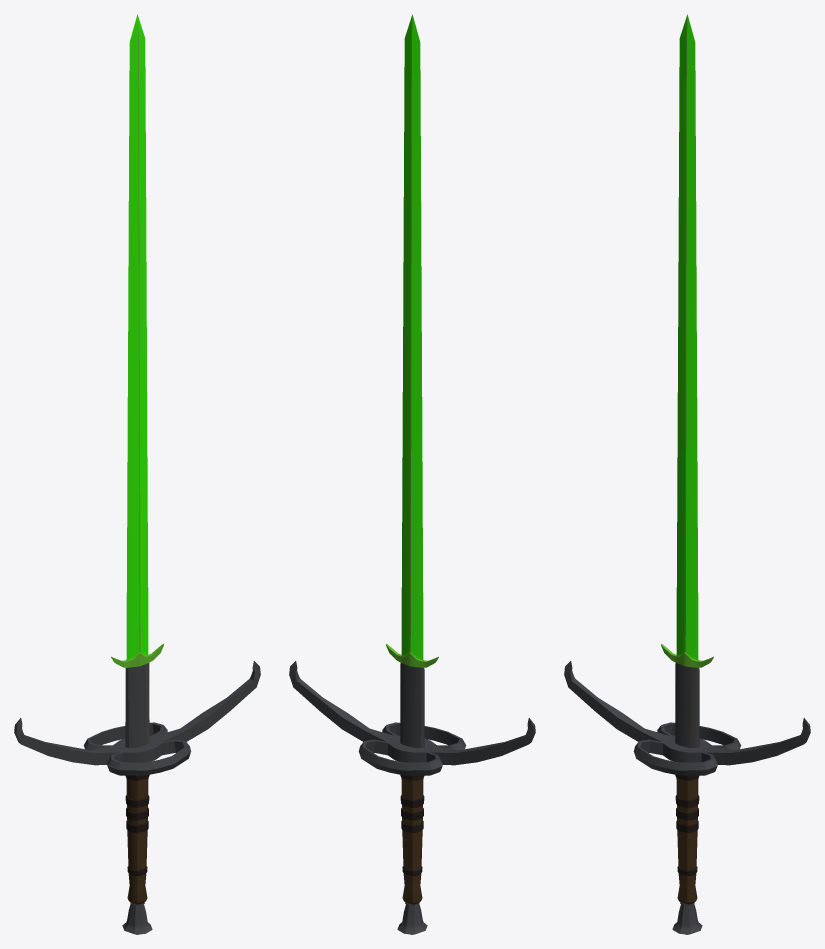
File: SM_Sword20_Zweihander_7Fantasy_Green.fbx
3 views of the same model, side by side, from view 1: azimuth 30°, elevation 25°; view 2: azimuth 150°, elevation 25°; view 3: azimuth 330°, elevation 25° (orthographic).
Parts seen in each view (by area): view 1: Cube.298, Cylinder.383, Cylinder.384, Cylinder.385, Sphere.081; view 2: Cube.298, Cylinder.383, Cylinder.384, Cylinder.385, Sphere.081; view 3: Cube.298, Cylinder.383, Cylinder.384, Cylinder.385, Sphere.081.
Boxes of the visible parts, <box> form: Cube.298: <box>111,14,163,667</box>; Cylinder.383: <box>14,661,260,775</box>; Cylinder.384: <box>125,775,149,904</box>; Cylinder.385: <box>125,663,149,747</box>; Sphere.081: <box>122,902,152,934</box>; Cube.298: <box>386,14,438,667</box>; Cylinder.383: <box>289,661,535,775</box>; Cylinder.384: <box>400,775,424,904</box>; Cylinder.385: <box>400,663,424,747</box>; Sphere.081: <box>397,902,427,934</box>; Cube.298: <box>661,14,713,667</box>; Cylinder.383: <box>564,661,810,775</box>; Cylinder.384: <box>675,775,699,904</box>; Cylinder.385: <box>675,663,699,747</box>; Sphere.081: <box>672,902,702,934</box>.
Bounding box in the file's own units: 0.4658 × 1.68 × 0.1577.
